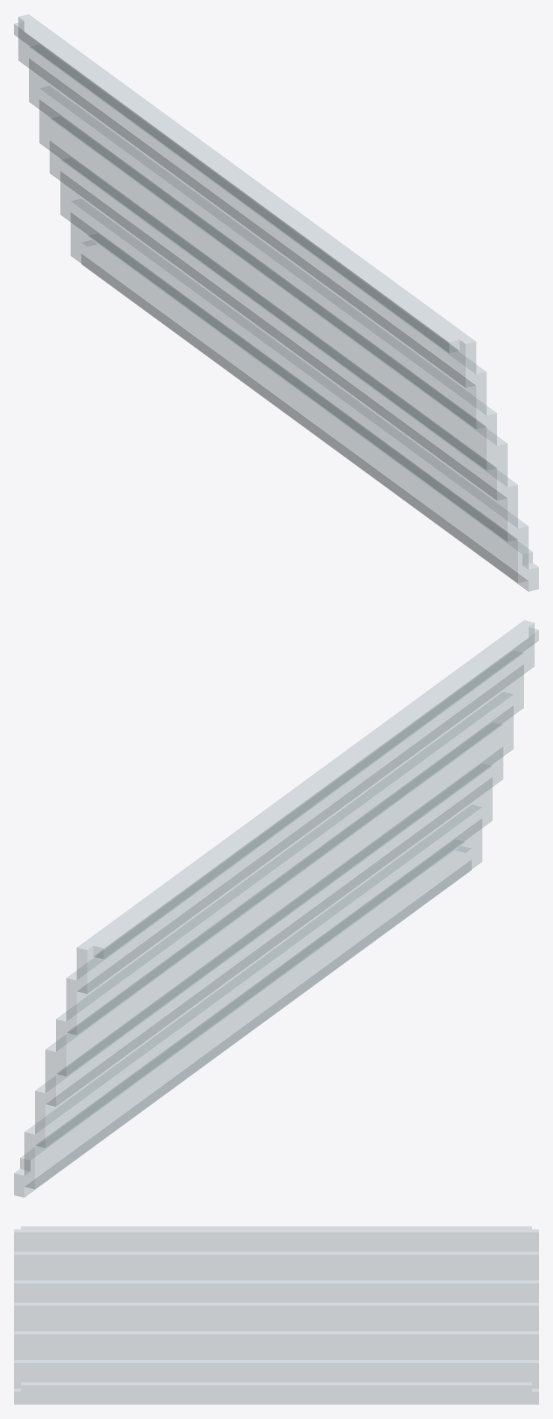
Rendered from tipper_truck_windscreen.glb.
3 renders of one model, top to bottom at view 1: azimuth 30°, elevation 25°; view 2: azimuth 150°, elevation 25°; view 3: azimuth 270°, elevation 25°, orthographic. The views are drawn at different scales.
Visible parts, largest first — view 1: body:compound; view 2: body:compound; view 3: body:compound.
Part boxes in pixels (x1,y1,x2,y2): body:compound: [14, 14, 538, 591]; body:compound: [14, 620, 538, 1197]; body:compound: [14, 1226, 538, 1404].
Size of the model in its own units: 0.25 by 0.75 by 2.31.
